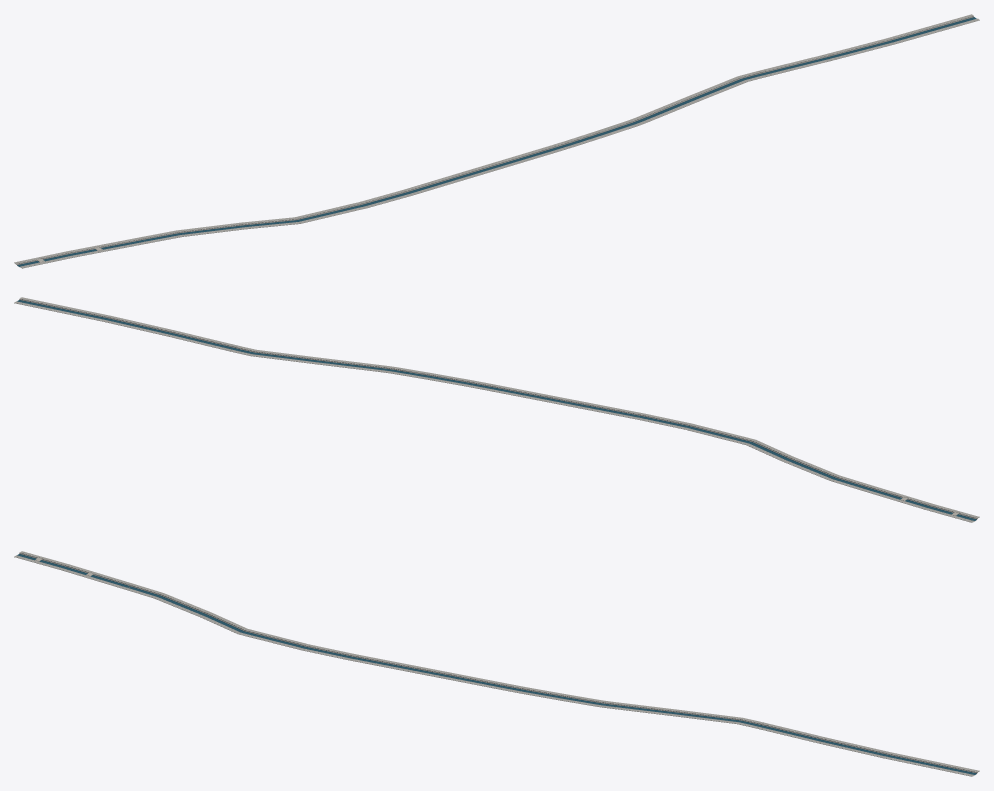
3 views of the same model, one above another, from view 1: azimuth 30°, elevation 25°; view 2: azimuth 150°, elevation 25°; view 3: azimuth 330°, elevation 25° (orthographic). The views are drawn at different scales.
Parts seen in each view (by area): view 1: city_ground_ribbon, water_surface_ribbon_pbr, retaining_wall_5layer_neg2_5m, stream_bed_gravel_ribbon; view 2: city_ground_ribbon, water_surface_ribbon_pbr, retaining_wall_5layer_neg2_5m, stream_bed_gravel_ribbon; view 3: city_ground_ribbon, water_surface_ribbon_pbr, retaining_wall_5layer_neg2_5m, stream_bed_gravel_ribbon.
Boxes of the visible parts, x1=… form: city_ground_ribbon: x1=14, y1=14, x2=979, y2=268; water_surface_ribbon_pbr: x1=17, y1=17, x2=976, y2=266; retaining_wall_5layer_neg2_5m: x1=16, y1=16, x2=979, y2=268; stream_bed_gravel_ribbon: x1=17, y1=18, x2=975, y2=266; city_ground_ribbon: x1=14, y1=297, x2=979, y2=522; water_surface_ribbon_pbr: x1=17, y1=300, x2=976, y2=520; retaining_wall_5layer_neg2_5m: x1=14, y1=299, x2=977, y2=522; stream_bed_gravel_ribbon: x1=18, y1=300, x2=976, y2=520; city_ground_ribbon: x1=14, y1=551, x2=979, y2=776; water_surface_ribbon_pbr: x1=17, y1=554, x2=976, y2=774; retaining_wall_5layer_neg2_5m: x1=14, y1=553, x2=977, y2=776; stream_bed_gravel_ribbon: x1=18, y1=554, x2=976, y2=774.
Size of the model in its own units: 2714 by 3.85 by 229.
5 materials, 5 textured.
